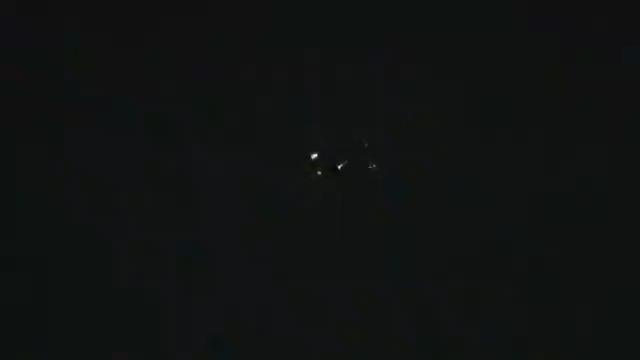Plane: (294, 134, 385, 189)
